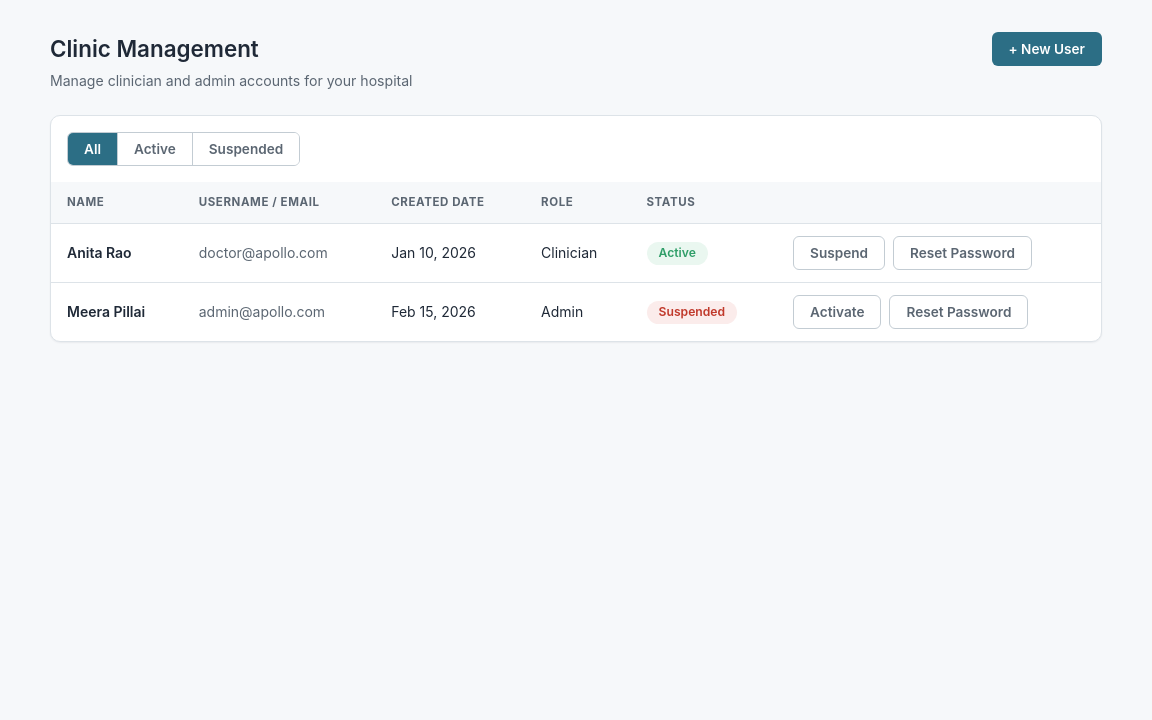
ClinicManagementComponent › submits the create-user form and displays the temporary password afterwards
Click the button with class "btn--primary": coordinates (1047, 49) [992,32,1102,66]
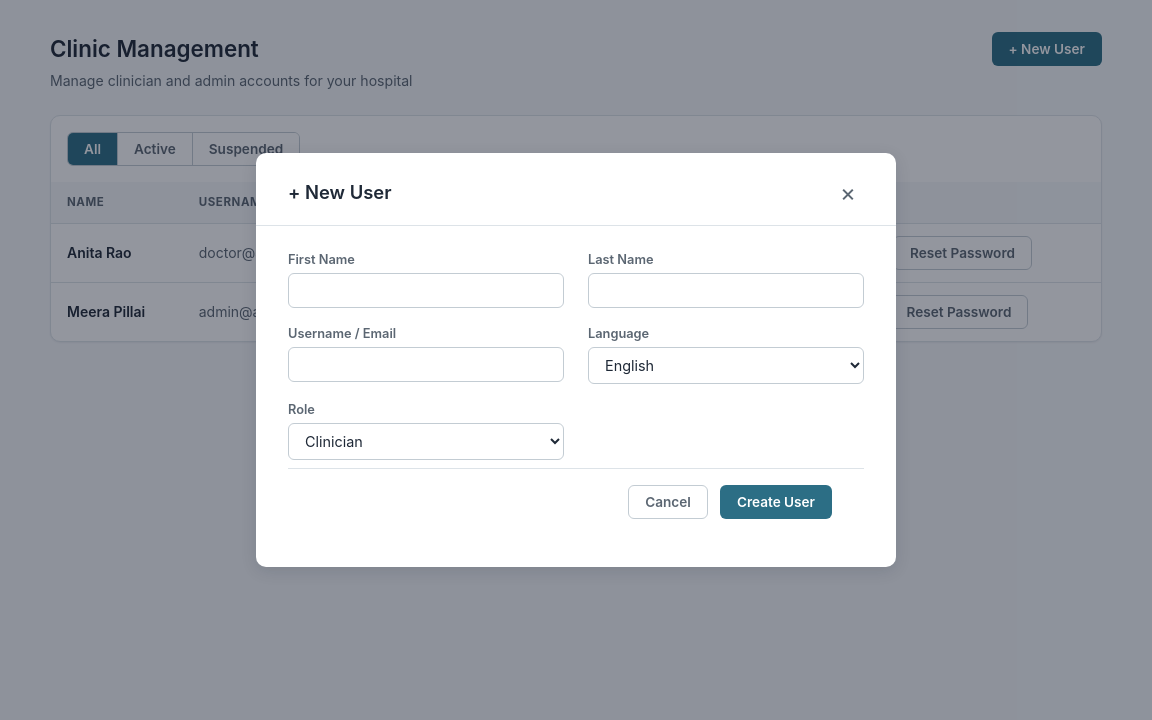
In the field with id "firstName": coordinates (426, 290) [288,273,564,308], type "Priya"
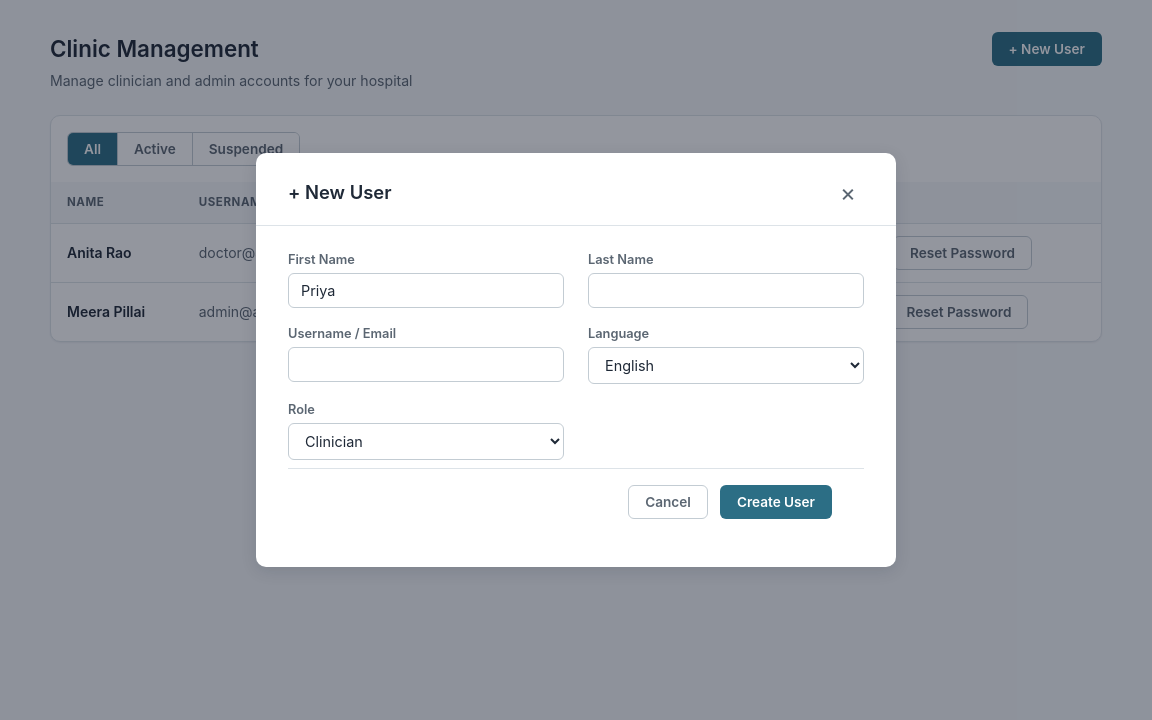
In the field with id "lastName": coordinates (726, 290) [588,273,864,308], type "Nair"
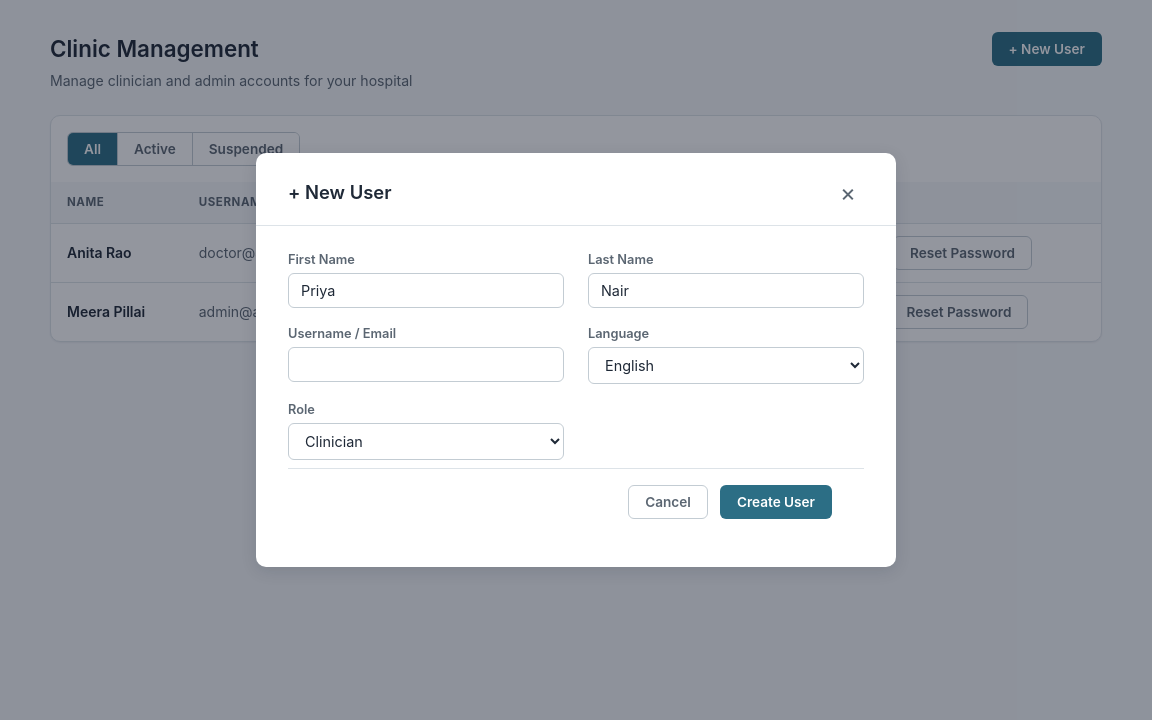
In the field with id "email": coordinates (426, 365) [288,347,564,382], type "priya.nair@apollo.com"
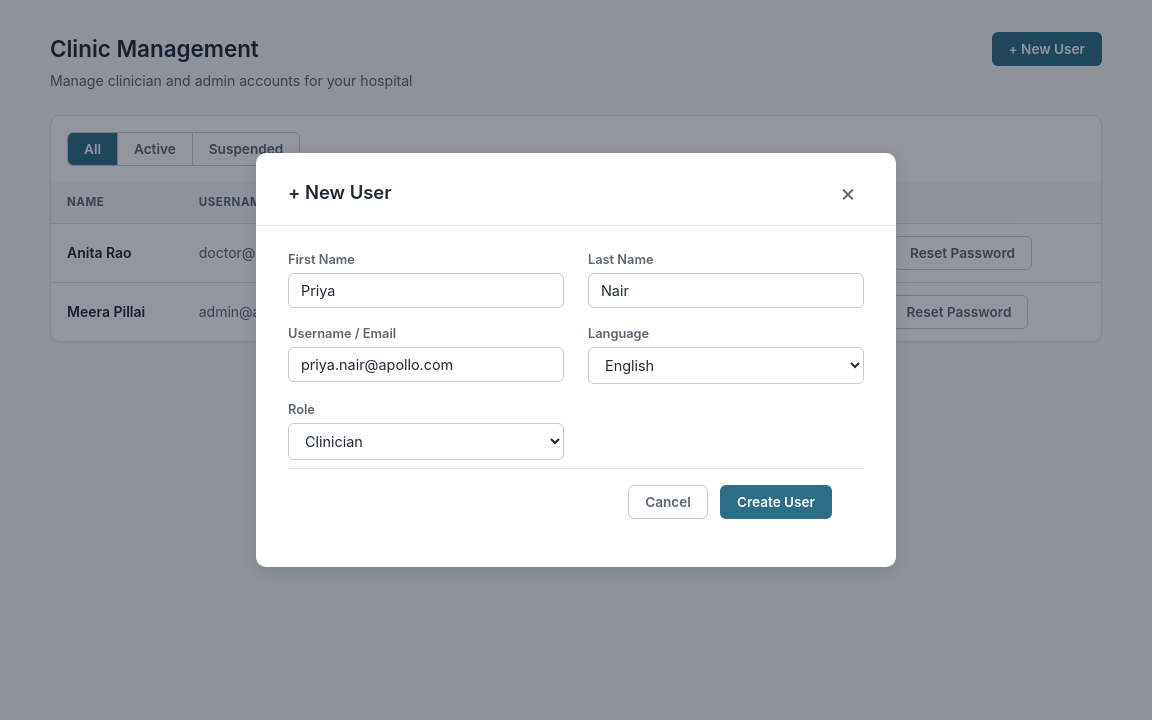
Click the button "Create User": coordinates (776, 502) [720,485,832,519]
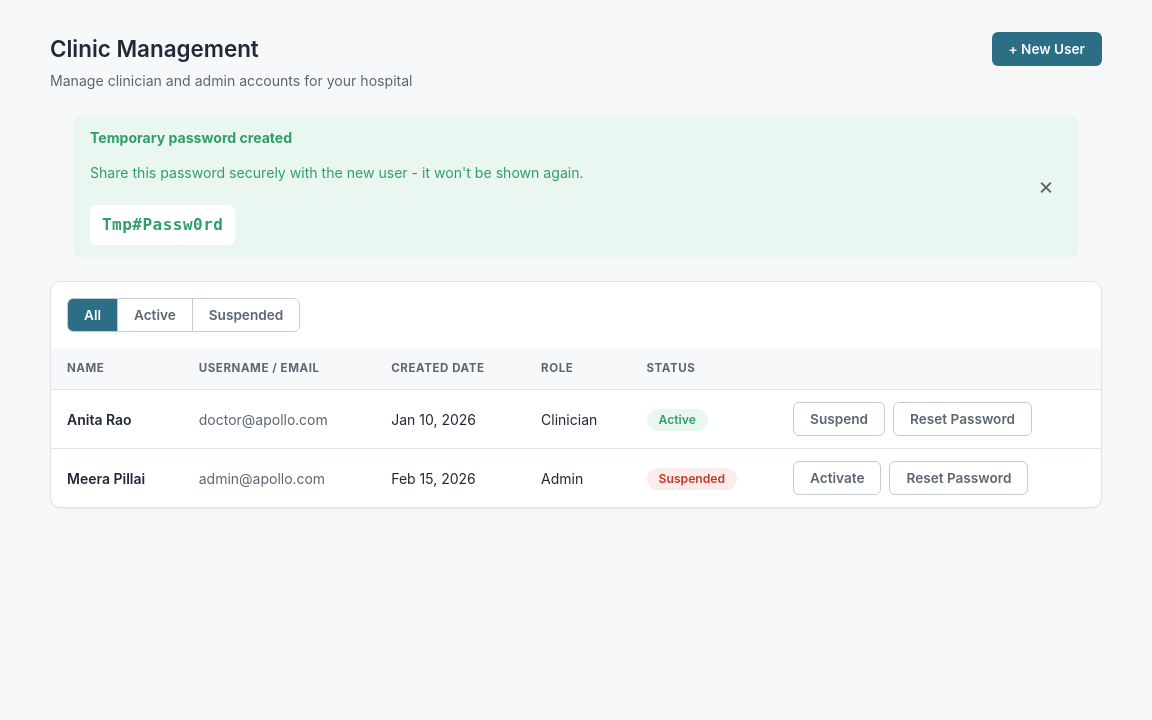
Expected: the text "Tmp#Passw0rd" is shown, [90,205,235,245]
Expected: the text "won't be shown again" is shown, [90,164,584,181]
